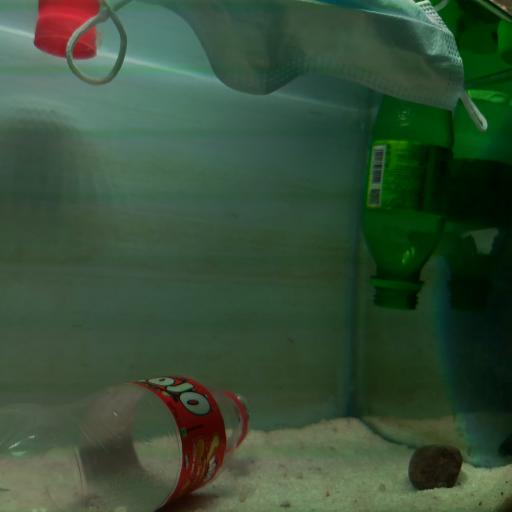bottle_cap: (36, 13, 99, 62)
mask: (65, 0, 491, 133)
plastic_bottle: (6, 367, 256, 512), (363, 70, 451, 312)
